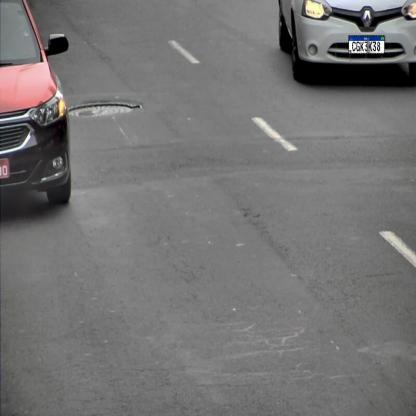PlacaM: (348, 35, 385, 54)
